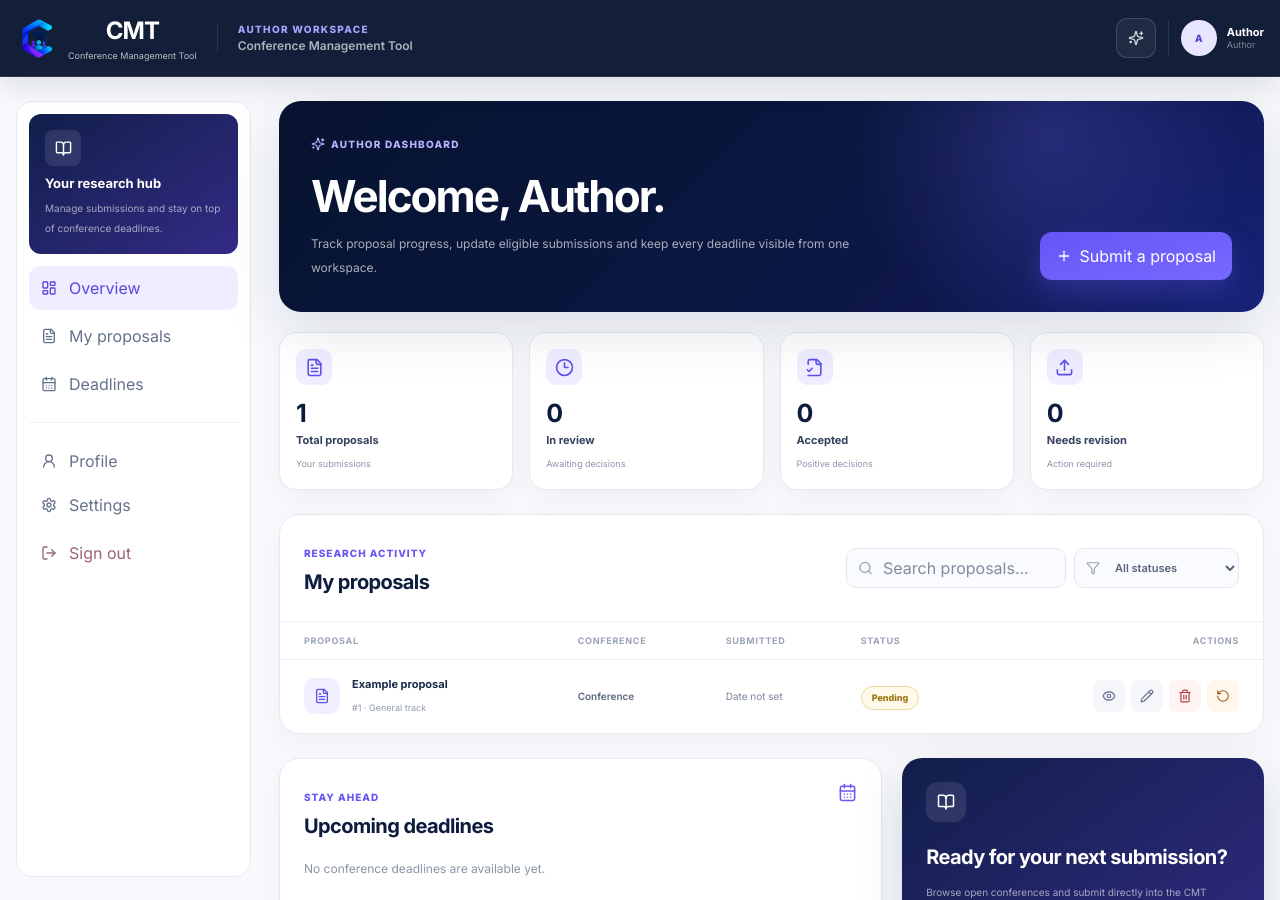
Test: author submission permissions › matches backend mutation permissions for pending submissions on desktop and mobile
Expected: the button titled "Edit" is shown, [1131,680,1163,712]
Expected: the button titled "Delete" is shown, [1169,680,1201,712]
Step 1. Click the button titled "View" → [1109, 696], box [1093,680,1125,712]
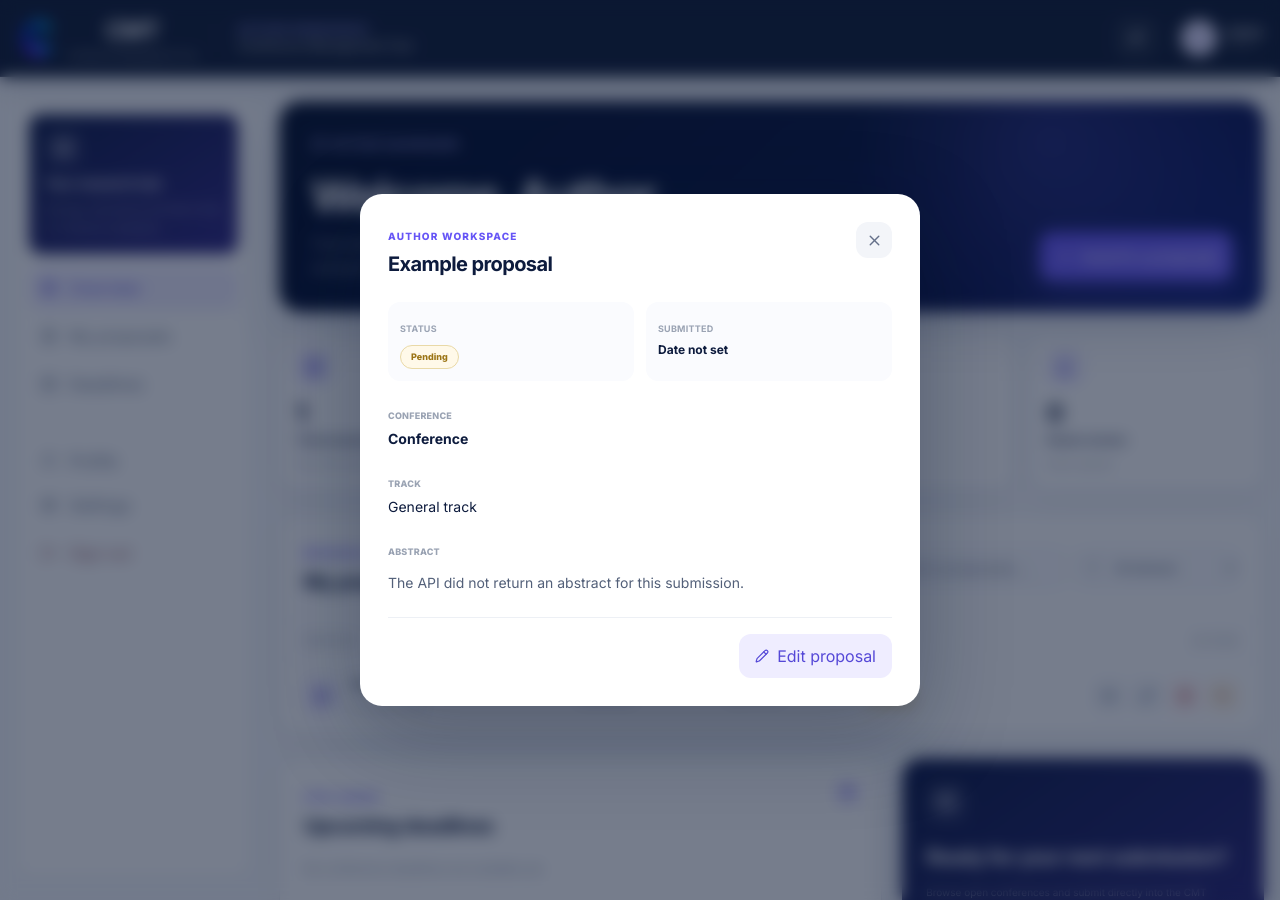
Result: the button "Edit proposal" is shown at [739,634,892,678]
